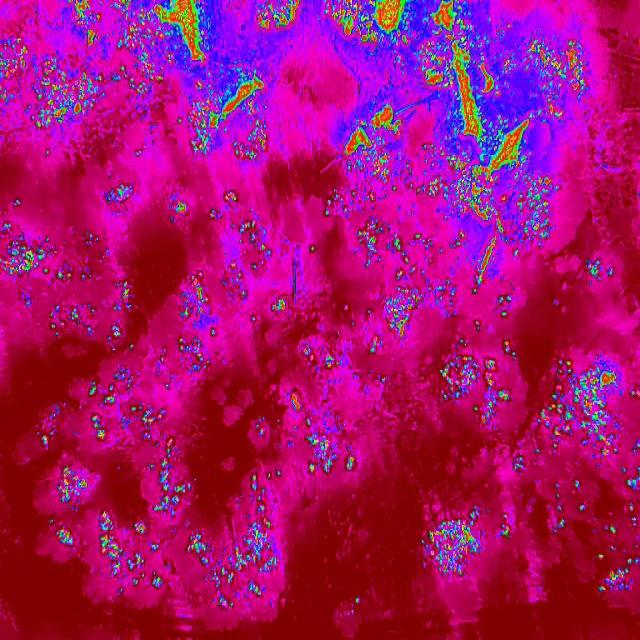fire: (319, 0, 587, 292), (32, 357, 308, 625), (115, 1, 307, 167), (526, 341, 640, 601), (0, 179, 142, 355), (156, 189, 290, 371), (364, 297, 524, 439), (0, 0, 117, 138), (306, 343, 364, 487), (412, 501, 514, 578), (581, 252, 621, 286), (508, 452, 526, 476)
